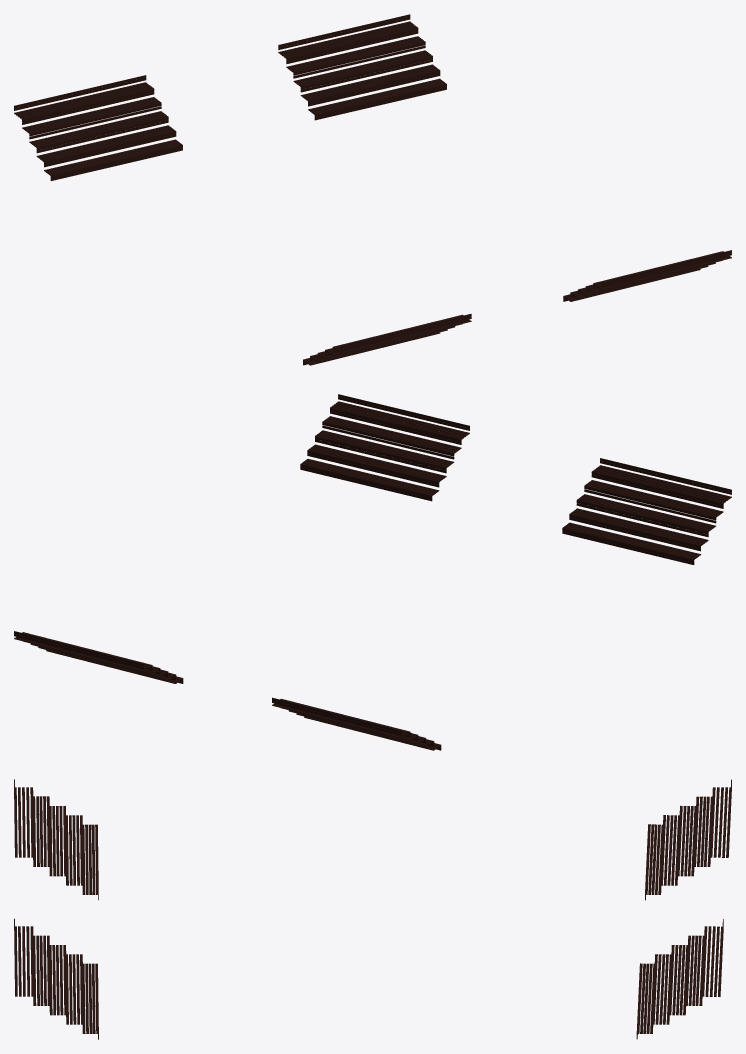
The model's file is Madeira.obj.
3 views of the same model, one above another, from view 1: azimuth 30°, elevation 25°; view 2: azimuth 150°, elevation 25°; view 3: azimuth 270°, elevation 25° (orthographic). The views are drawn at different scales.
Parts seen in each view (by area): view 1: Banco1Madeira, Banco2Madeira, Banco4Madeira, Banco3Madeira; view 2: Banco3Madeira, Banco4Madeira, Banco2Madeira, Banco1Madeira; view 3: Banco4Madeira, Banco3Madeira, Banco2Madeira, Banco1Madeira.
Part boxes in pixels (x1,y1,x2,y2): Banco1Madeira: (14, 75, 182, 180); Banco2Madeira: (278, 14, 446, 120); Banco4Madeira: (563, 250, 731, 301); Banco3Madeira: (303, 314, 471, 365); Banco3Madeira: (562, 458, 731, 564); Banco4Madeira: (300, 394, 469, 501); Banco2Madeira: (14, 631, 183, 683); Banco1Madeira: (272, 697, 441, 750); Banco4Madeira: (14, 918, 98, 1039); Banco3Madeira: (14, 779, 98, 900); Banco2Madeira: (636, 919, 723, 1039); Banco1Madeira: (645, 779, 731, 900).
Size of the model in its own units: 13.11 by 1.5 by 19.
